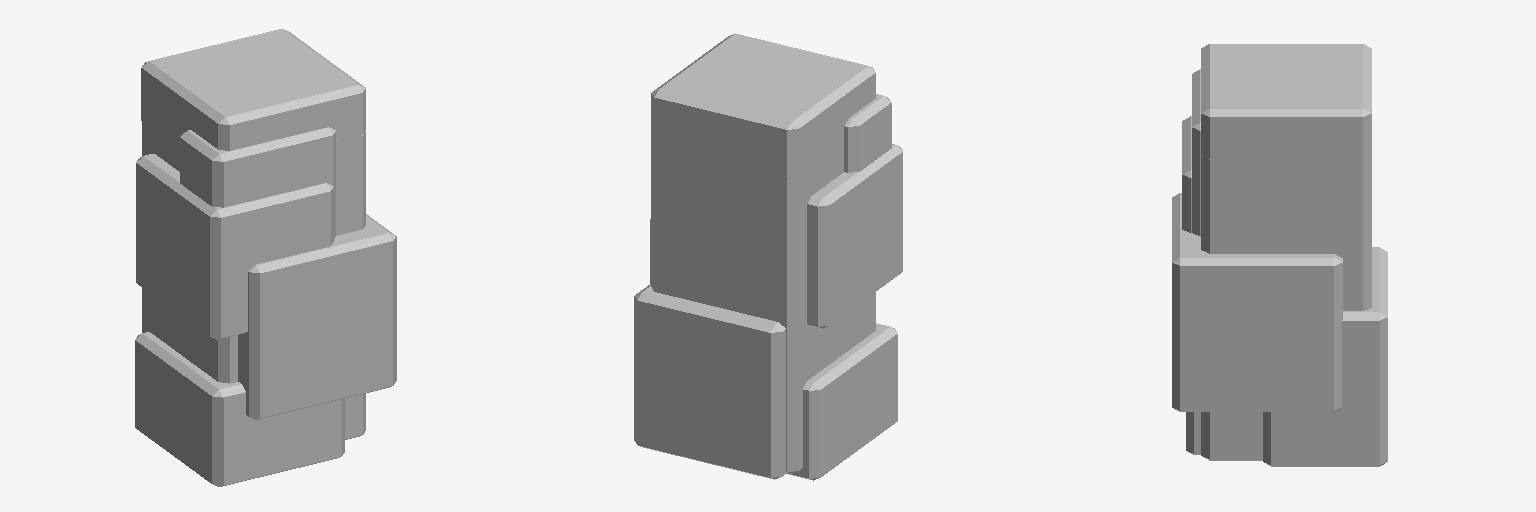
The model's file is Rock2 - Copy.obj.
3 renders of one model, left to right at view 1: azimuth 30°, elevation 25°; view 2: azimuth 150°, elevation 25°; view 3: azimuth 270°, elevation 25°, orthographic.
Parts seen in each view (by area): view 1: Rock2_Cube.005; view 2: Rock2_Cube.005; view 3: Rock2_Cube.005.
Boxes of the visible parts, x1,y1,x2,y2 form: Rock2_Cube.005: [135, 29, 396, 486]; Rock2_Cube.005: [634, 33, 902, 480]; Rock2_Cube.005: [1172, 44, 1387, 466].
Size of the model in its own units: 2.46 by 4.66 by 2.53.